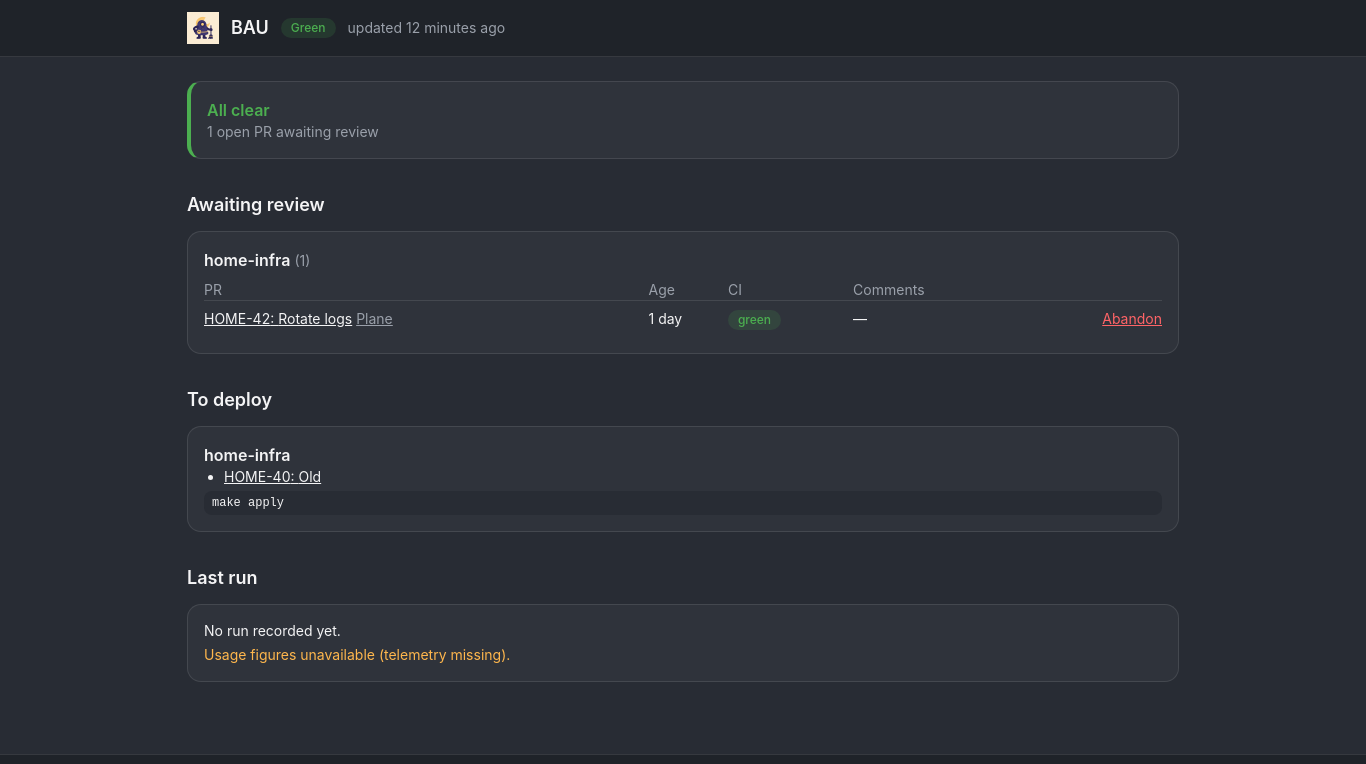
App › abandons in two steps, shows the result and refetches
The image size is (1366, 764).
Click the button "Abandon" at coordinates (1132, 319), box [1102,309,1162,329]
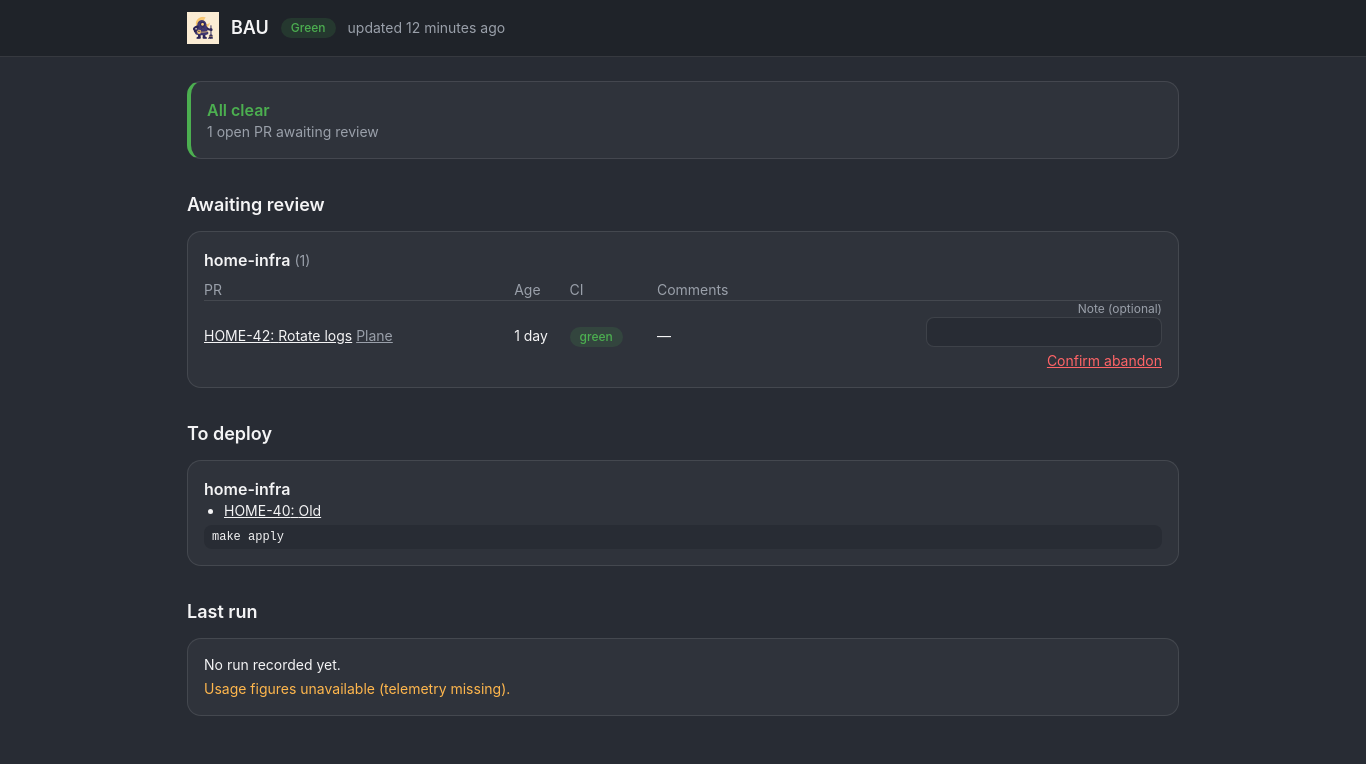
Click the button "Confirm abandon" at coordinates (1104, 361), box [1047,351,1162,371]
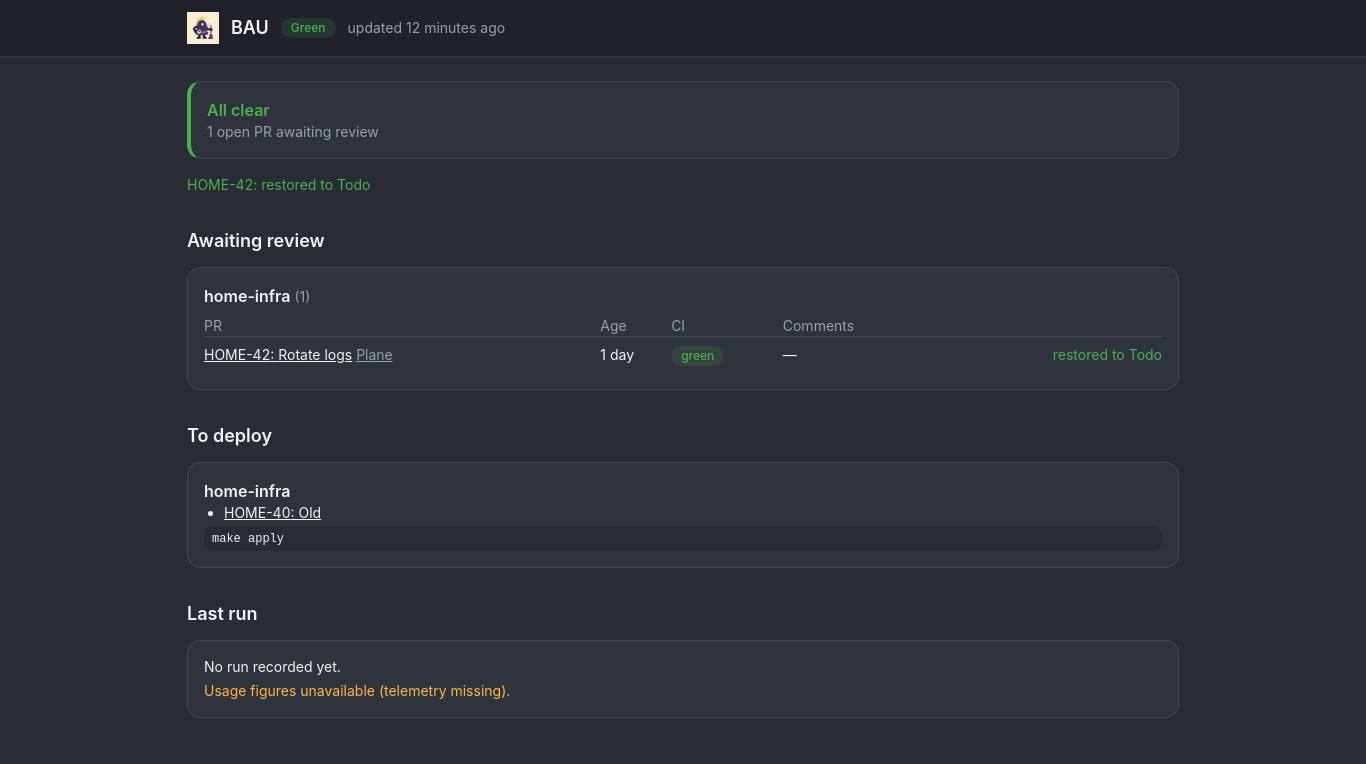
Check: the list item "HOME-42: restored to Todo" is shown, box [187,176,370,193]
